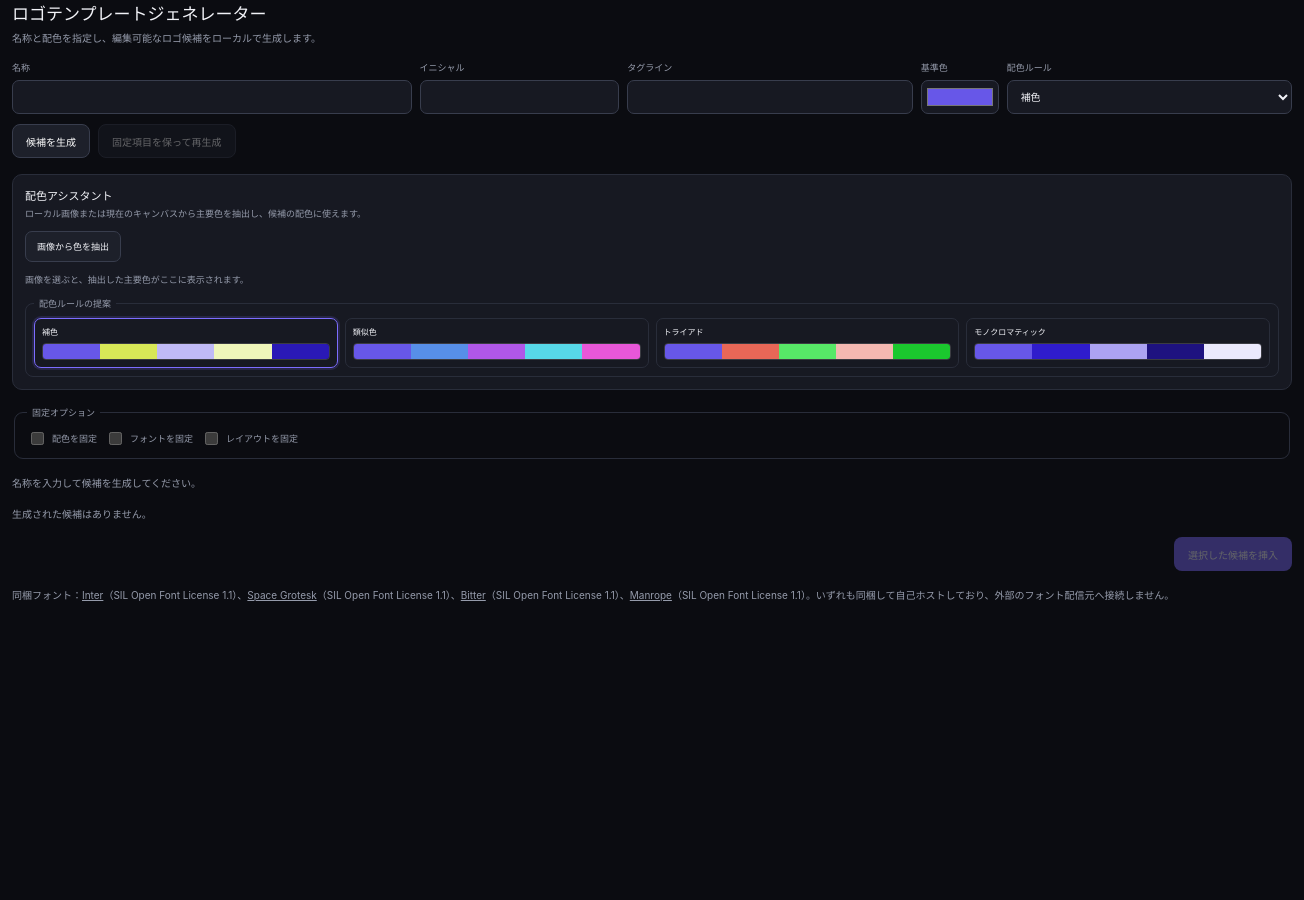
LogoGeneratorPanel › reports invalid input without creating candidates
Expected: the button "選択した候補を挿入" is disabled, [1174,537,1292,571]
Click the button "候補を生成": click(51, 141) [12,124,90,158]
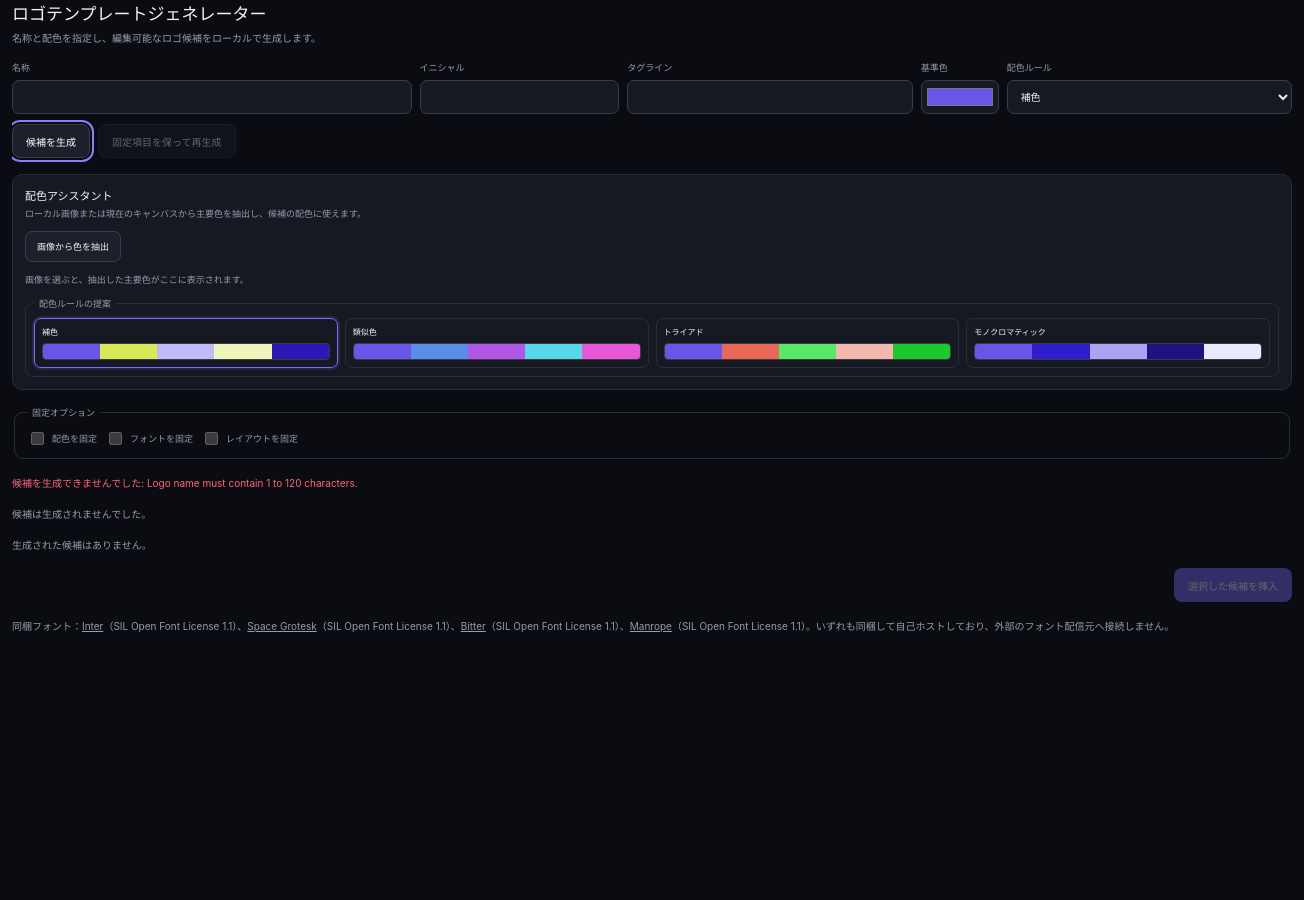
Expected: the text "生成された候補はありません。" is shown, [12,539,152,551]
Result: the message "候補を生成できませんでした: Logo name must contain 1 to 120 characters." is shown at [12,477,358,489]
